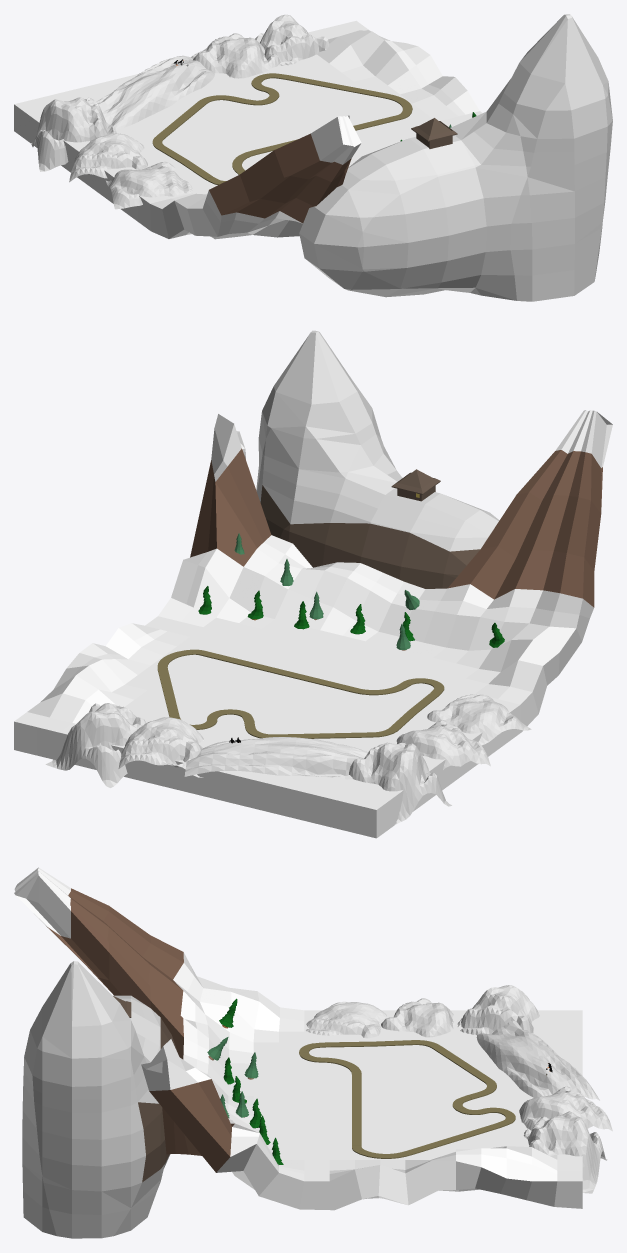
The model's file is alpha0.2.fbx.
3 views of the same model, one above another, from view 1: azimuth 30°, elevation 25°; view 2: azimuth 150°, elevation 25°; view 3: azimuth 270°, elevation 25° (orthographic). The views are drawn at different scales.
Visible parts, largest first — view 1: Plane.005, Cube.013; view 2: Plane.005, Cube.013; view 3: Plane.005, Cube.013.
Boxes of the visible parts, <box> form: Plane.005: <box>14,14,612,301</box>; Cube.013: <box>152,73,412,184</box>; Plane.005: <box>14,330,612,838</box>; Cube.013: <box>157,649,444,738</box>; Plane.005: <box>14,867,612,1238</box>; Cube.013: <box>299,1040,515,1158</box>.
Size of the model in its own units: 20719 by 13616 by 27350.
